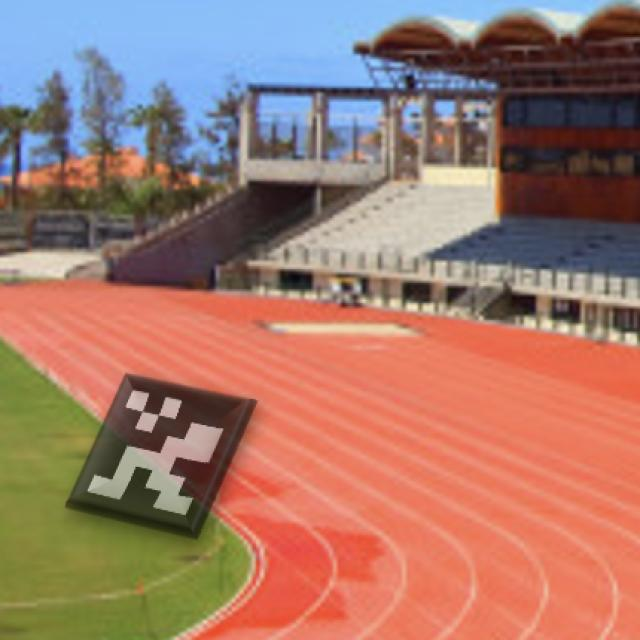marker: (64, 363, 268, 552)
